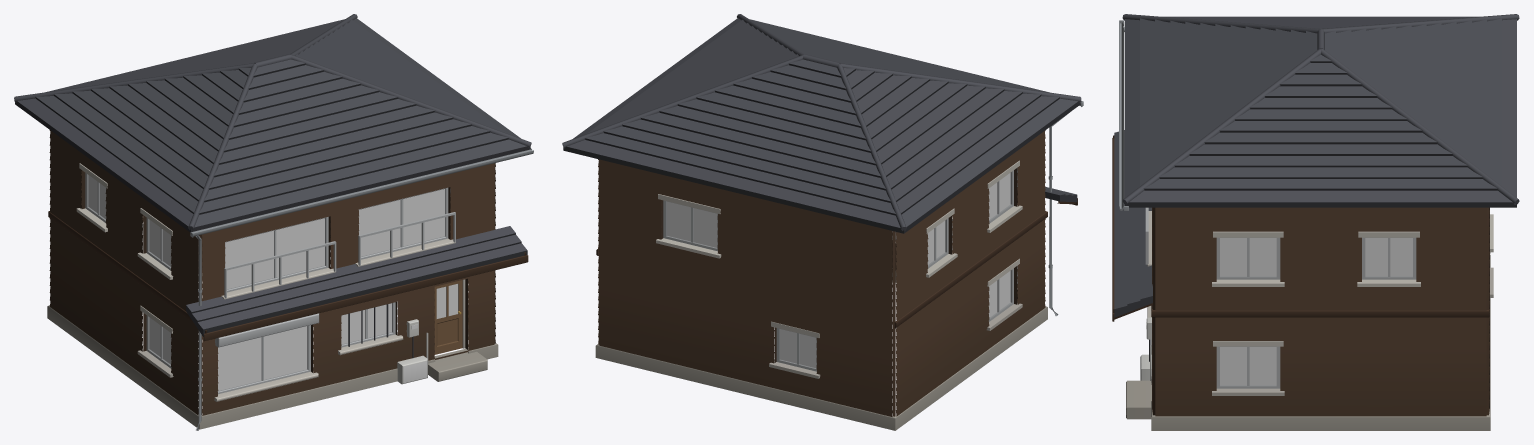
Rendered from HouseWoodKM.fbx.
The picture shows the model from 3 angles, left to right: view 1: azimuth 30°, elevation 25°; view 2: azimuth 150°, elevation 25°; view 3: azimuth 270°, elevation 25°; orthographic projection. The views are drawn at different scales.
Parts seen in each view (by area): view 1: HouseWoodKM; view 2: HouseWoodKM; view 3: HouseWoodKM.
Part boxes in pixels (x1,y1,x2,y2): HouseWoodKM: (14,14,533,430); HouseWoodKM: (562,14,1083,430); HouseWoodKM: (1112,14,1519,430).
Bounding box in the file's own units: 9.75 × 7.55 × 8.97.
